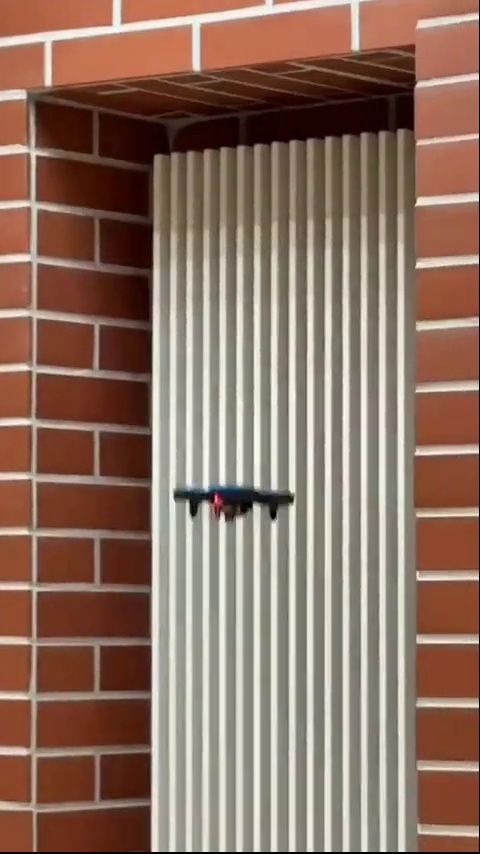drone: (175, 478, 295, 525)
